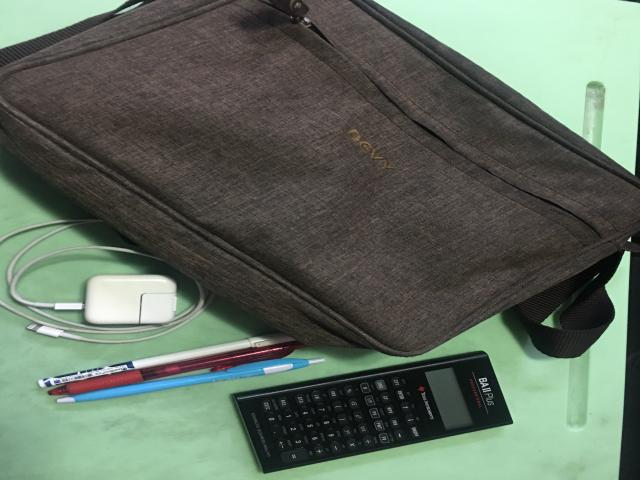Pen: (38, 337, 331, 404)
wire: (0, 219, 215, 343)
